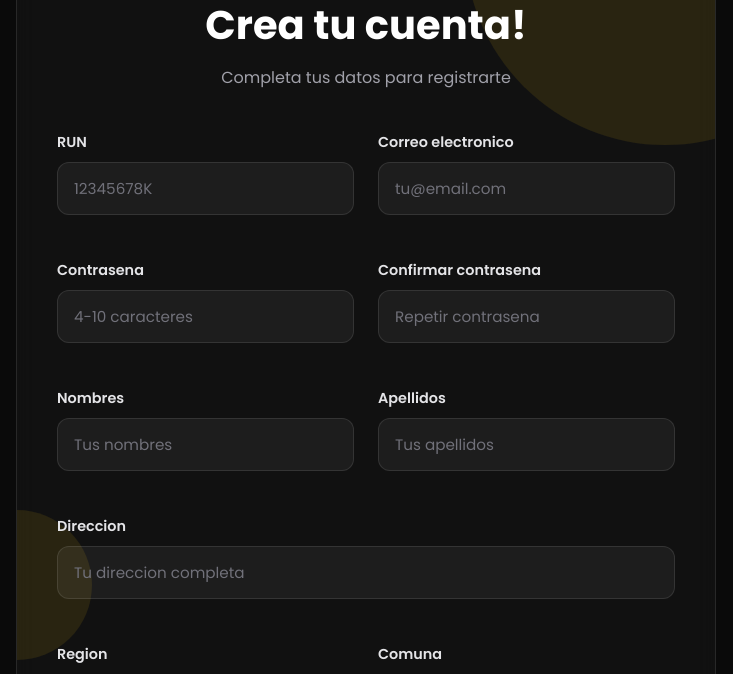
it: Registro › Validaciones de formulario › debe mostrar error cuando el RUN es inválido
Step 1. Type "123" into the field with placeholder "12345678K" → (206, 188), box [57,162,354,215]
(page scrolled)
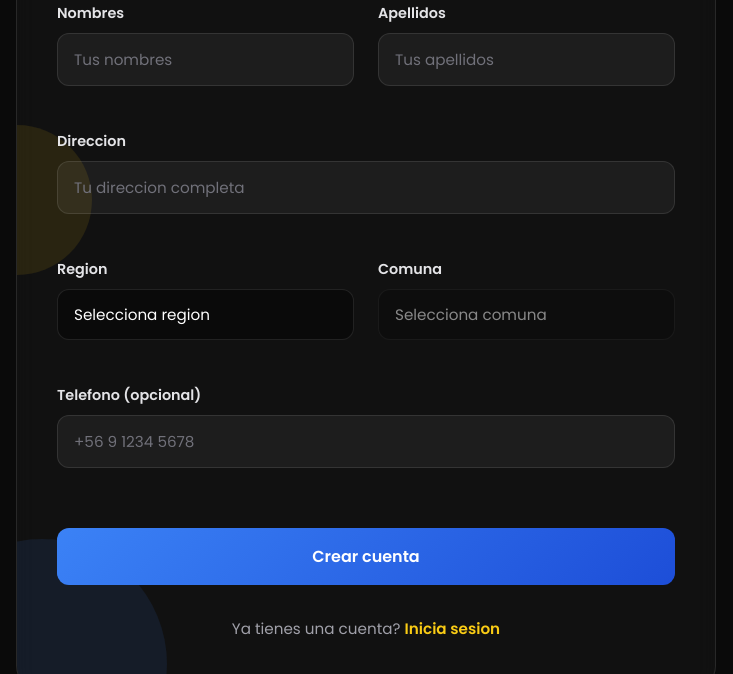
Step 2. Click the button "Crear cuenta" → (366, 556), box [57,528,675,585]
(page scrolled)
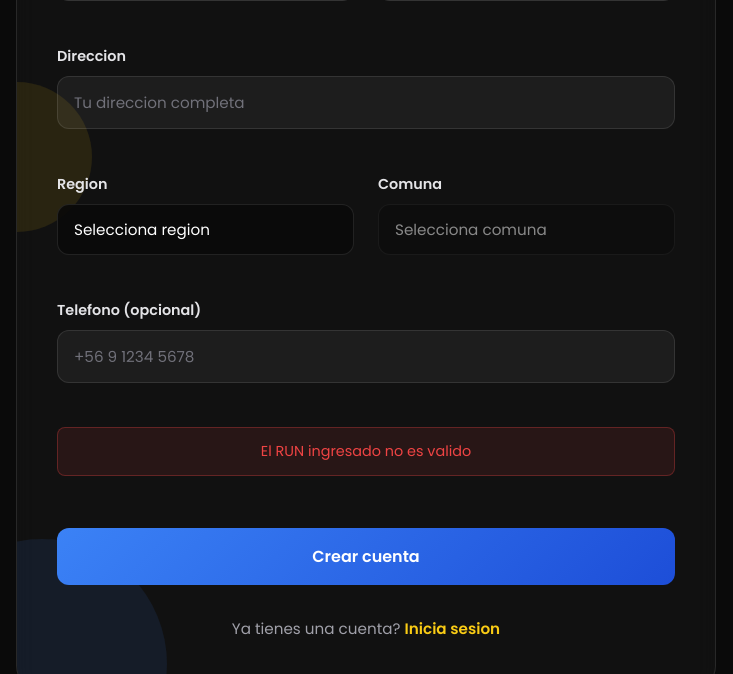
Check: the text "El RUN ingresado no es valido" is shown, box [57,427,675,476]
